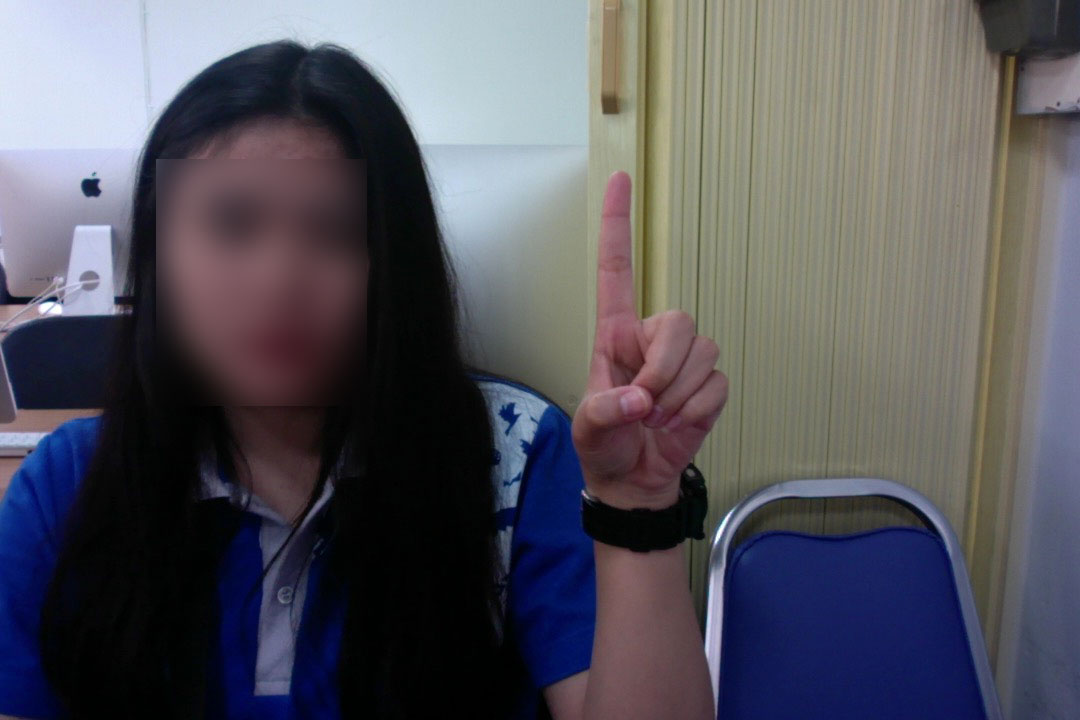dor: (564, 158, 742, 513)
